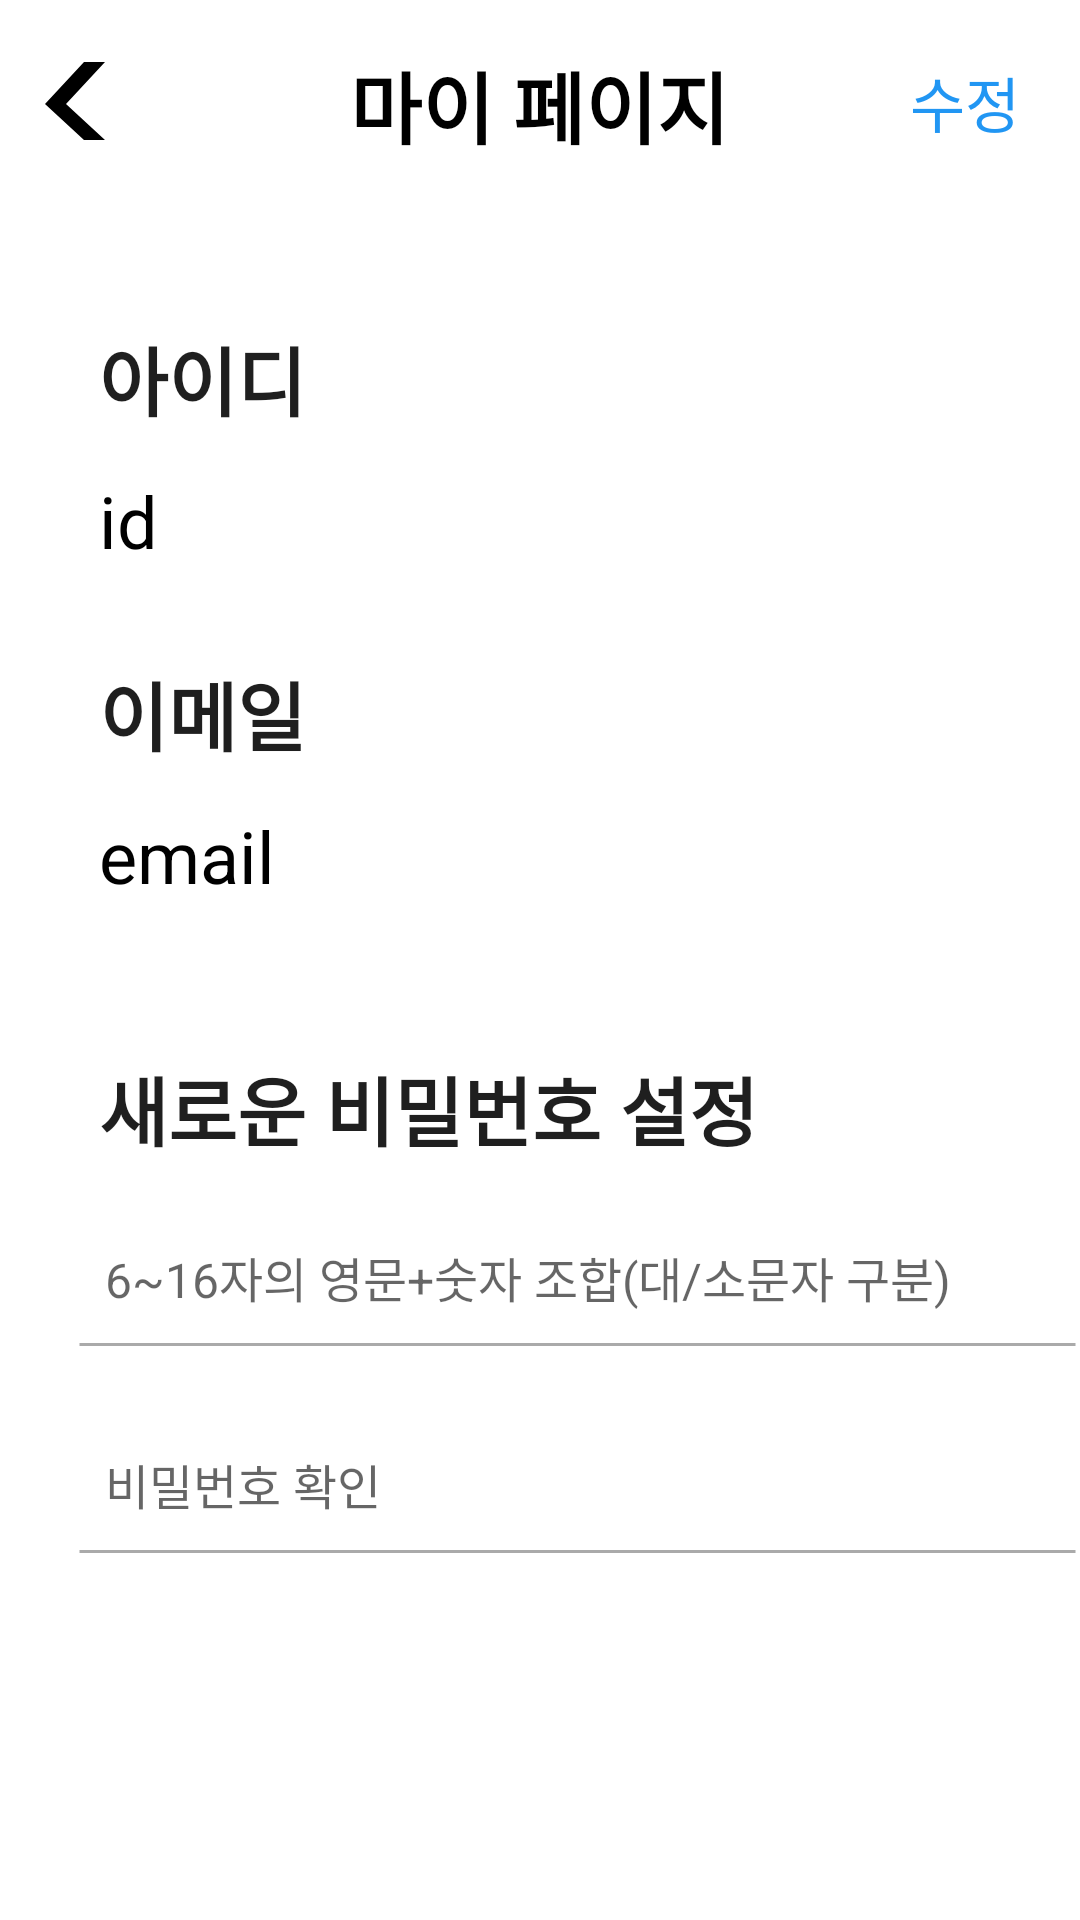

Icon bounding boxes for this 1080×1920 phone screenshot, format (x1, y1, x2, y2):
backspace: (45, 62, 105, 140)
